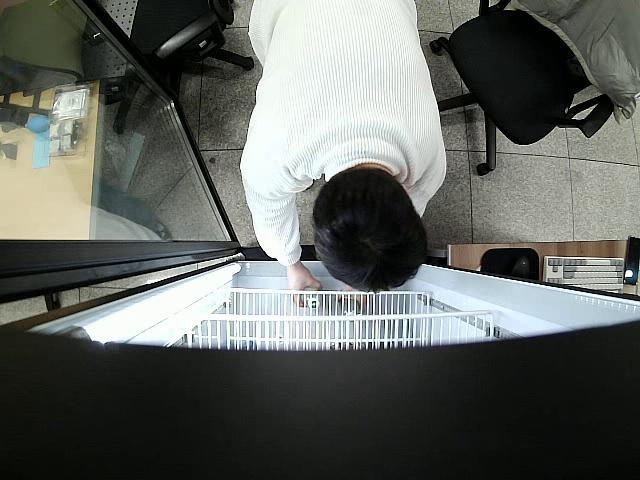18_trevi: (296, 287, 321, 312)
